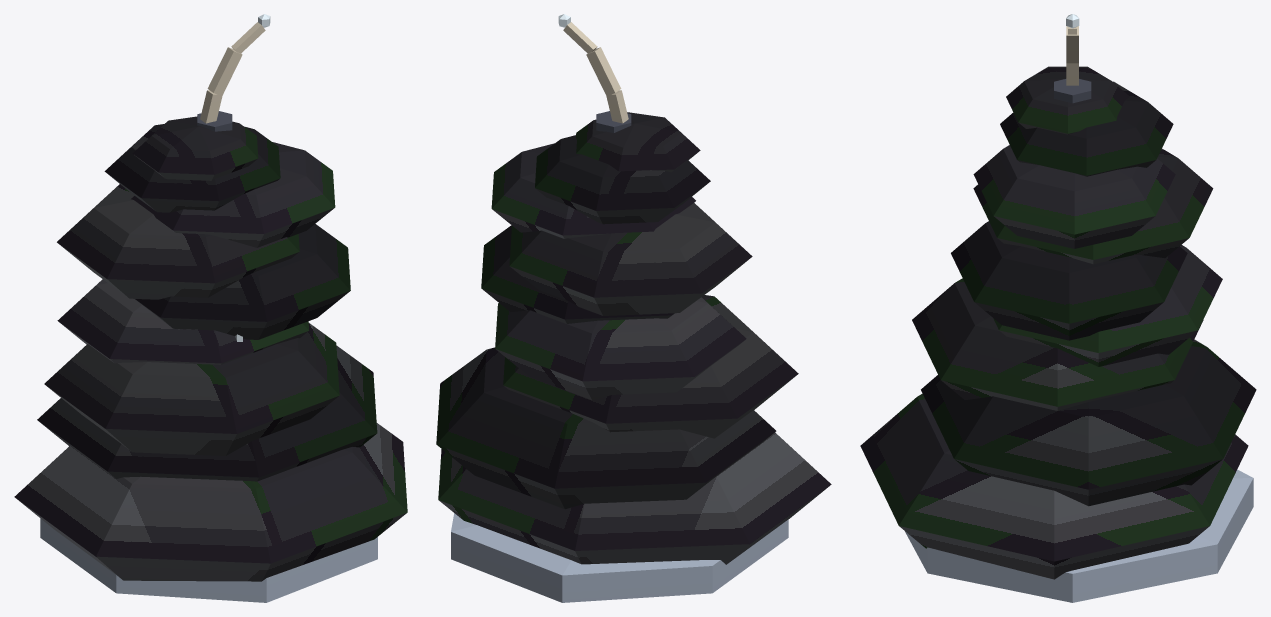
Rendered from watch_cairn.glb.
The picture shows the model from 3 angles, left to right: view 1: azimuth 30°, elevation 25°; view 2: azimuth 150°, elevation 25°; view 3: azimuth 270°, elevation 25°; orthographic projection. The views are drawn at different scales.
Parts seen in each view (by area): view 1: watch_cairn; view 2: watch_cairn; view 3: watch_cairn.
Part boxes in pixels (x1,y1,x2,y2): watch_cairn: (14, 14, 407, 602); watch_cairn: (436, 14, 831, 602); watch_cairn: (860, 14, 1256, 602).
Bounding box in the file's own units: 2.39 × 3.45 × 2.22.
Materials: 3 (1 with a texture image).
